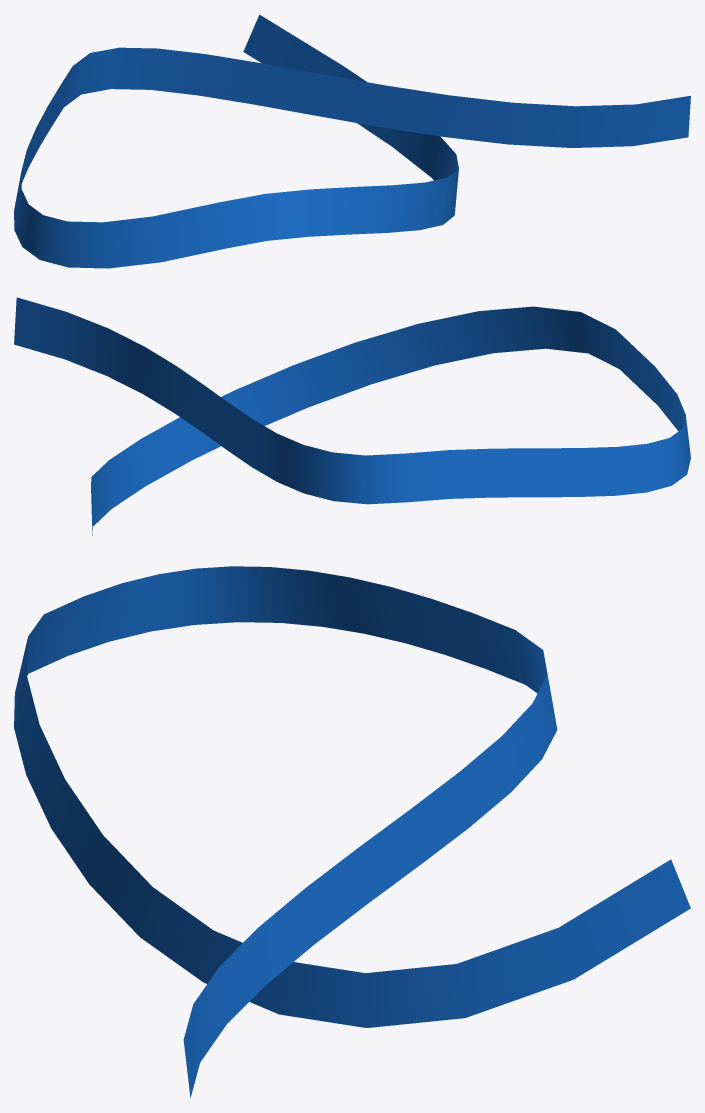
File: ribbon.fbx
3 renders of one model, top to bottom at view 1: azimuth 30°, elevation 25°; view 2: azimuth 150°, elevation 25°; view 3: azimuth 270°, elevation 25°, orthographic. The views are drawn at different scales.
Parts seen in each view (by area): view 1: Ribbon; view 2: Ribbon; view 3: Ribbon.
Boxes of the visible parts, x1,y1,x2,y2 form: Ribbon: (14,14,690,268); Ribbon: (14,297,690,535); Ribbon: (14,566,690,1098).
Size of the model in its own units: 916 by 198 by 612.
